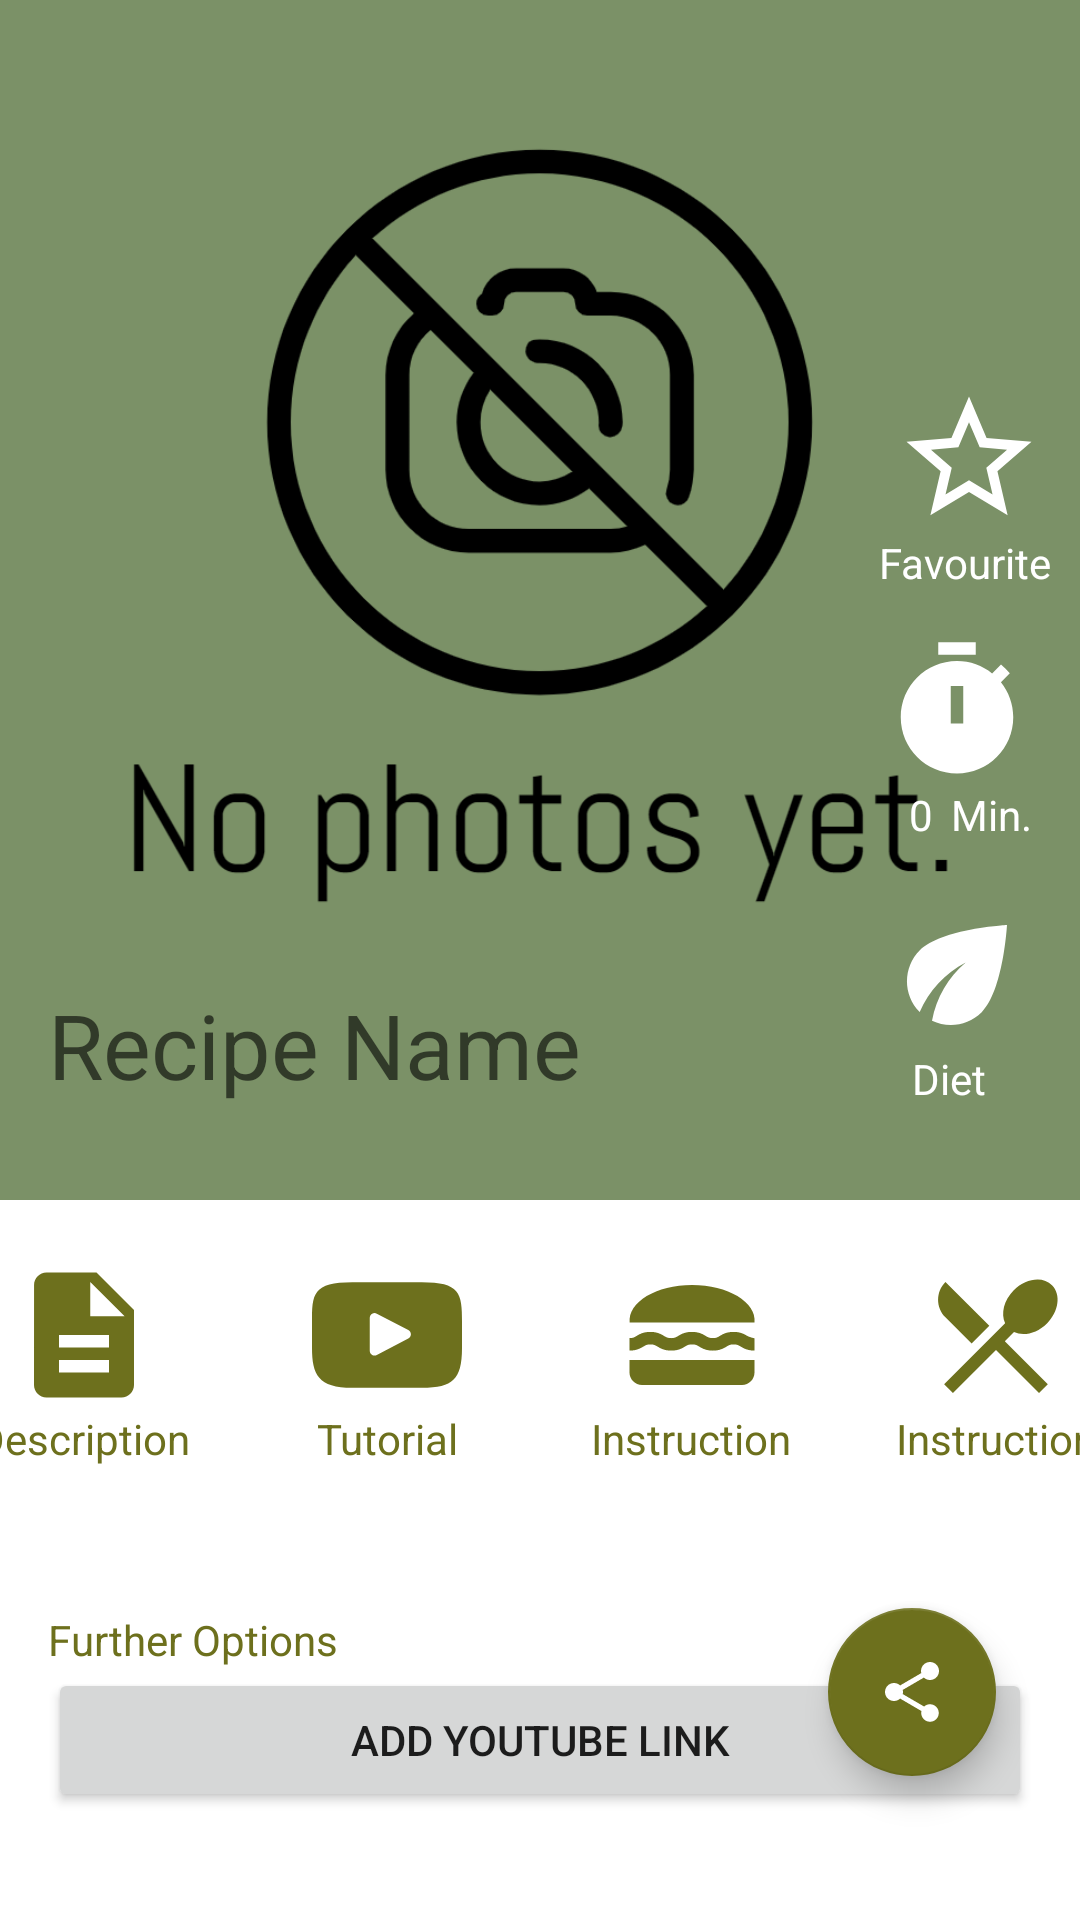

Screen size 1080×1920. Icon name, then its center in pixels as (x=x, y=y):
lunch: (x=692, y=1335)
plant: (x=957, y=975)
share: (x=912, y=1692)
star border: (x=969, y=456)
time: (x=957, y=708)
